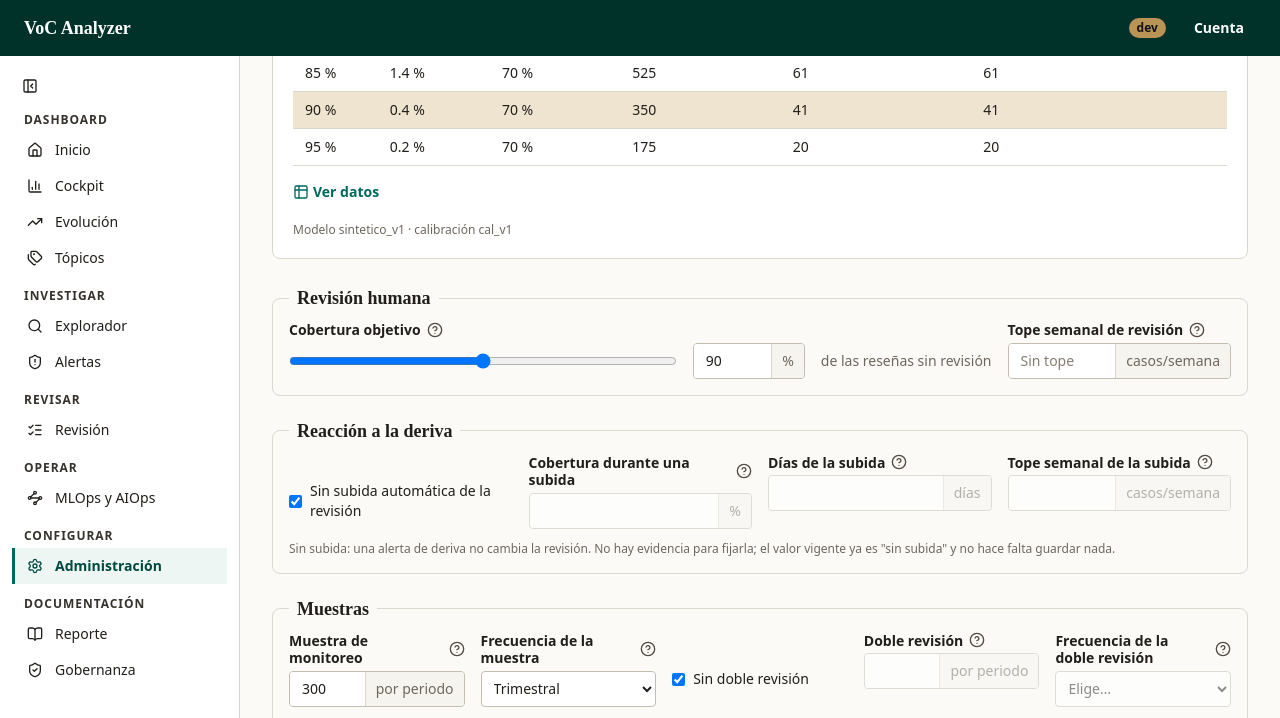
Scenario: administración: apetito de riesgo › revisar manda solo lo que cambió y el diff lista solo eso
The width and height of the screenshot is (1280, 718).
(page scrolled)
Step 1. Replace the text in the number field labelled "Cobertura objetivo" with "85" → [732, 360], box x1=694 y1=344 x2=771 y2=378
(page scrolled)
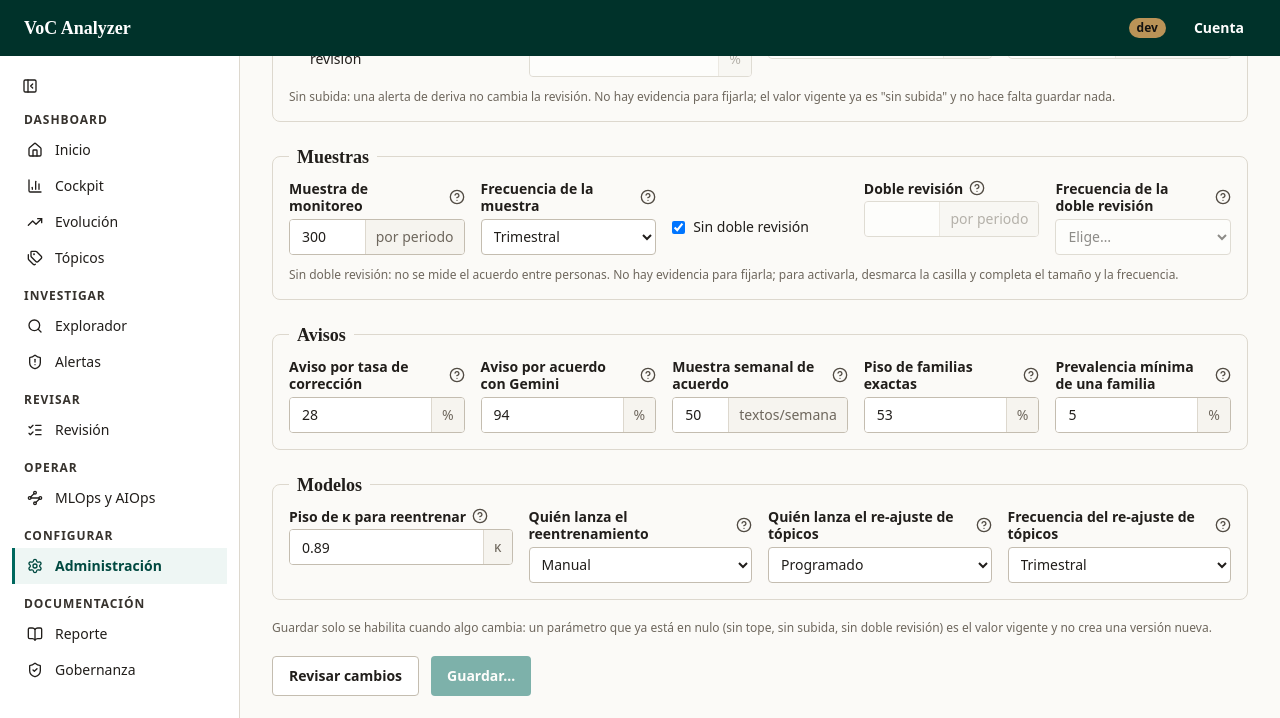
Step 2. Click the button "Revisar cambios" → [346, 676], box x1=272 y1=656 x2=419 y2=696
(page scrolled)
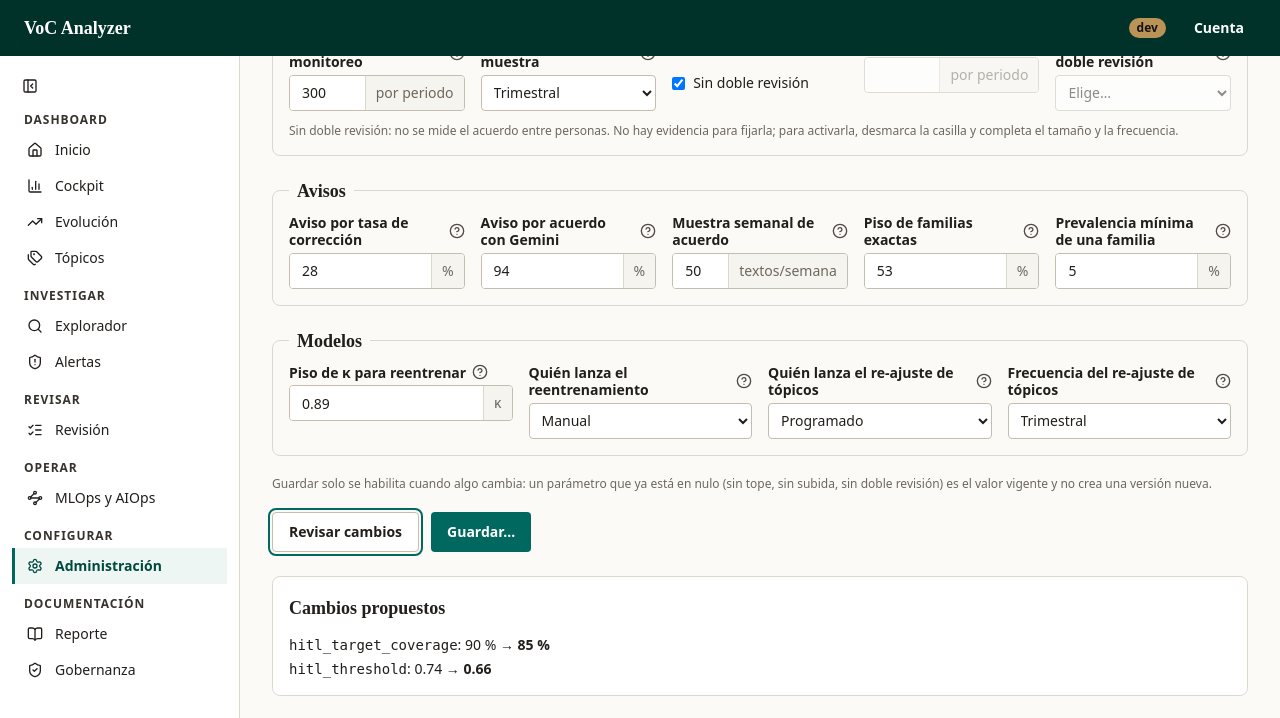
Check: the text "hitl_threshold" is shown, box x1=289 y1=660 x2=407 y2=676
